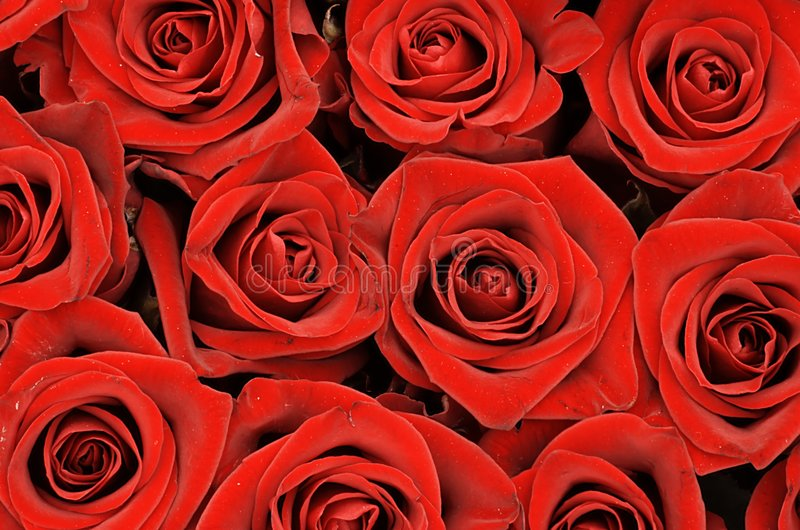RedRose: (375, 136, 639, 434), (140, 152, 385, 387), (213, 351, 514, 530), (623, 163, 798, 461), (577, 0, 798, 201), (4, 350, 246, 530), (53, 6, 337, 154), (334, 0, 582, 146)
